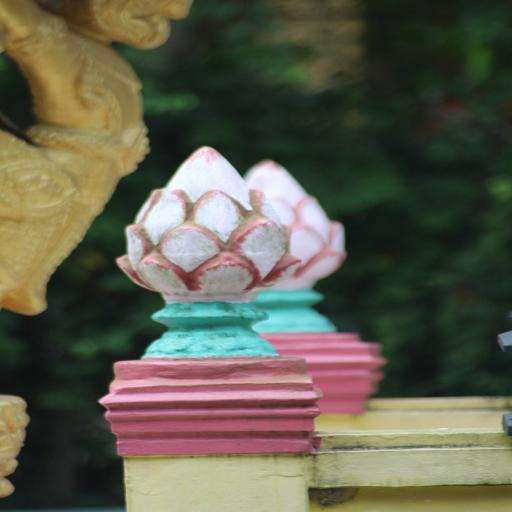hoa: (132, 140, 280, 305), (245, 160, 358, 285)
